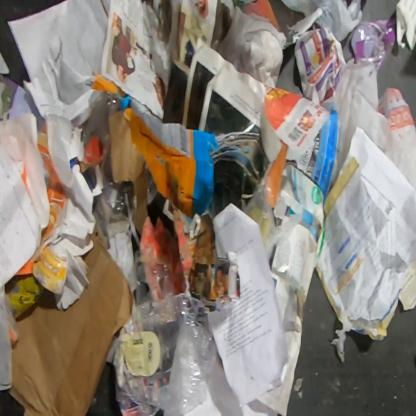cardboard: (7, 221, 135, 415), (90, 70, 222, 220), (15, 112, 104, 309), (108, 109, 153, 235), (294, 28, 346, 105), (5, 272, 48, 321), (32, 243, 68, 295)
soft_plastic: (114, 292, 220, 416), (319, 61, 415, 193), (78, 90, 132, 222), (239, 174, 312, 271), (128, 248, 191, 308), (279, 0, 364, 43), (350, 18, 397, 74)
